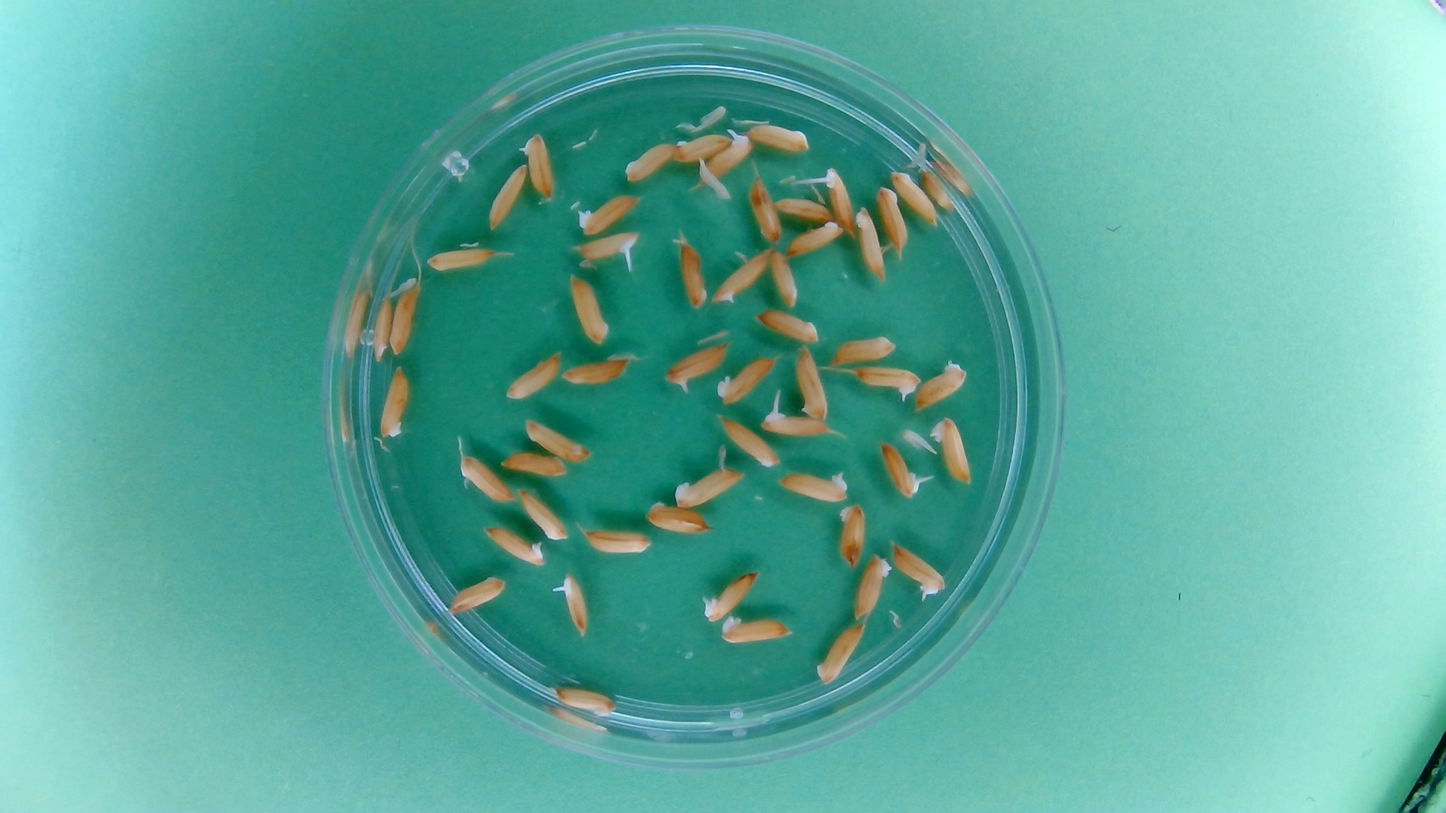no: (813, 620, 867, 688), (718, 413, 782, 470), (711, 248, 770, 308), (714, 352, 779, 406), (566, 272, 611, 347), (523, 416, 593, 464), (456, 452, 517, 506), (929, 414, 973, 488), (504, 349, 563, 402), (485, 161, 529, 231), (673, 463, 745, 505), (575, 192, 642, 237), (852, 550, 894, 621), (914, 358, 969, 412), (889, 168, 940, 226), (516, 486, 570, 540), (795, 345, 831, 425), (482, 524, 548, 566), (776, 467, 850, 504), (376, 364, 412, 440), (853, 204, 888, 282), (642, 498, 712, 536), (718, 612, 794, 647), (386, 279, 420, 357), (827, 331, 898, 368), (754, 307, 823, 345), (621, 139, 678, 185), (746, 173, 782, 245), (520, 132, 557, 202), (674, 236, 709, 310), (875, 184, 910, 257), (560, 353, 633, 388), (551, 681, 620, 718), (446, 574, 508, 615), (744, 119, 813, 155), (581, 525, 654, 558), (785, 218, 845, 258), (833, 501, 868, 569), (767, 245, 802, 310), (497, 448, 569, 478), (672, 129, 731, 164), (425, 244, 496, 273), (368, 289, 395, 363), (772, 194, 834, 222), (919, 166, 956, 211)
yes: (697, 127, 754, 191), (700, 568, 761, 622), (664, 342, 731, 391), (889, 540, 945, 598), (821, 166, 858, 236), (877, 440, 920, 500), (853, 364, 921, 400), (557, 570, 592, 637), (760, 405, 830, 438), (573, 230, 641, 263)
